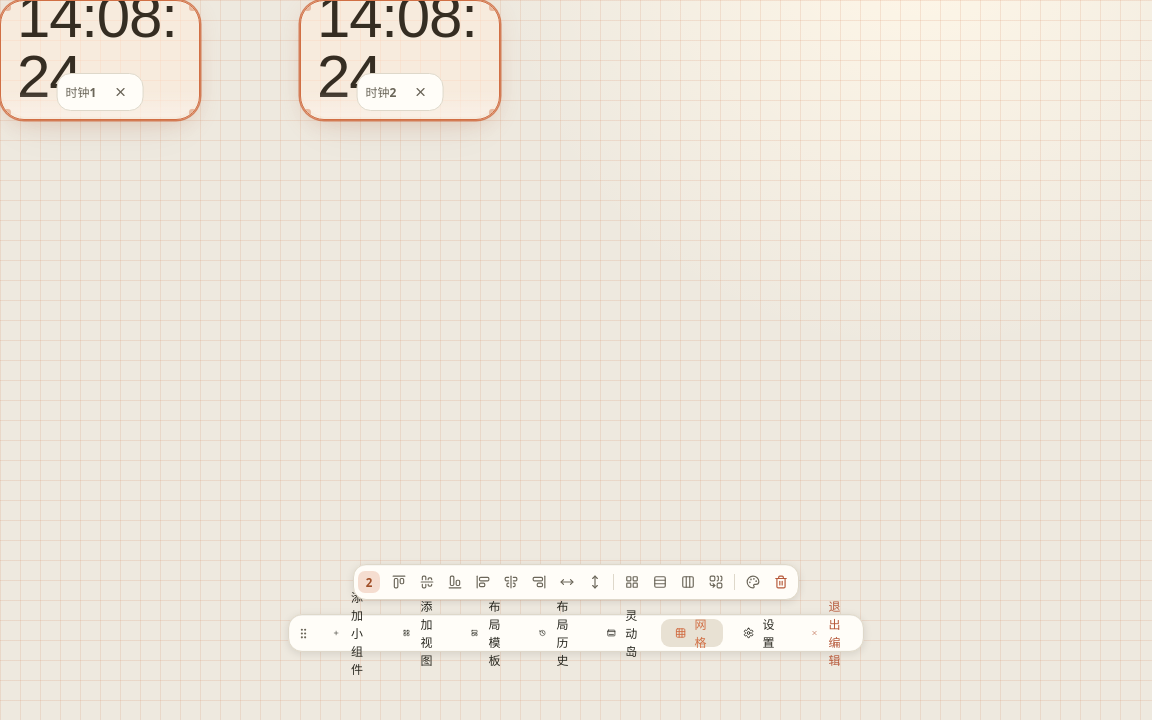
it: 编辑工具栏弹层治理 › 多选批量工具栏与弹层互斥让位：面板打开时隐藏，收起后选区保留工具栏回来
Expected: the element with class "widget-batch-toolbar" is shown, [353, 564, 799, 600]
Click the button "布局模板": coordinates (488, 633) [457, 619, 519, 647]
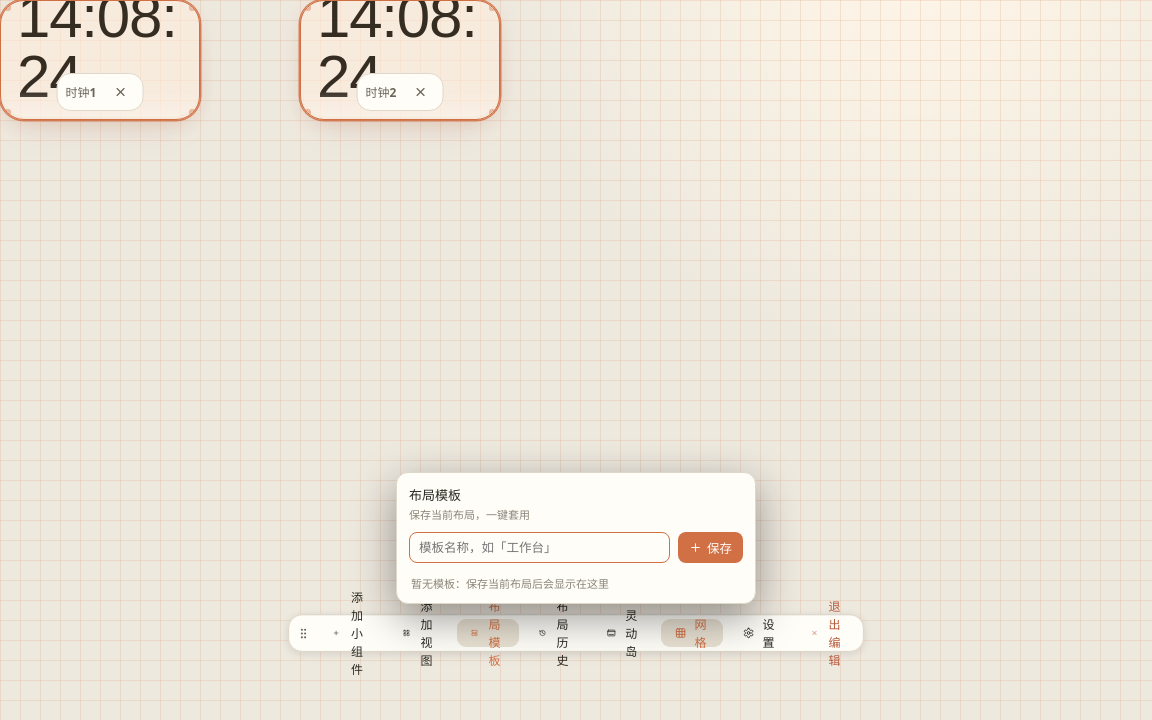
Expected: the dialog "布局模板" is shown, [396, 472, 756, 604]
Expected: the element with class "widget-batch-toolbar" is gone
Esc 收面板 → 选区未动，批量工具栏自动回来。
Press Escape
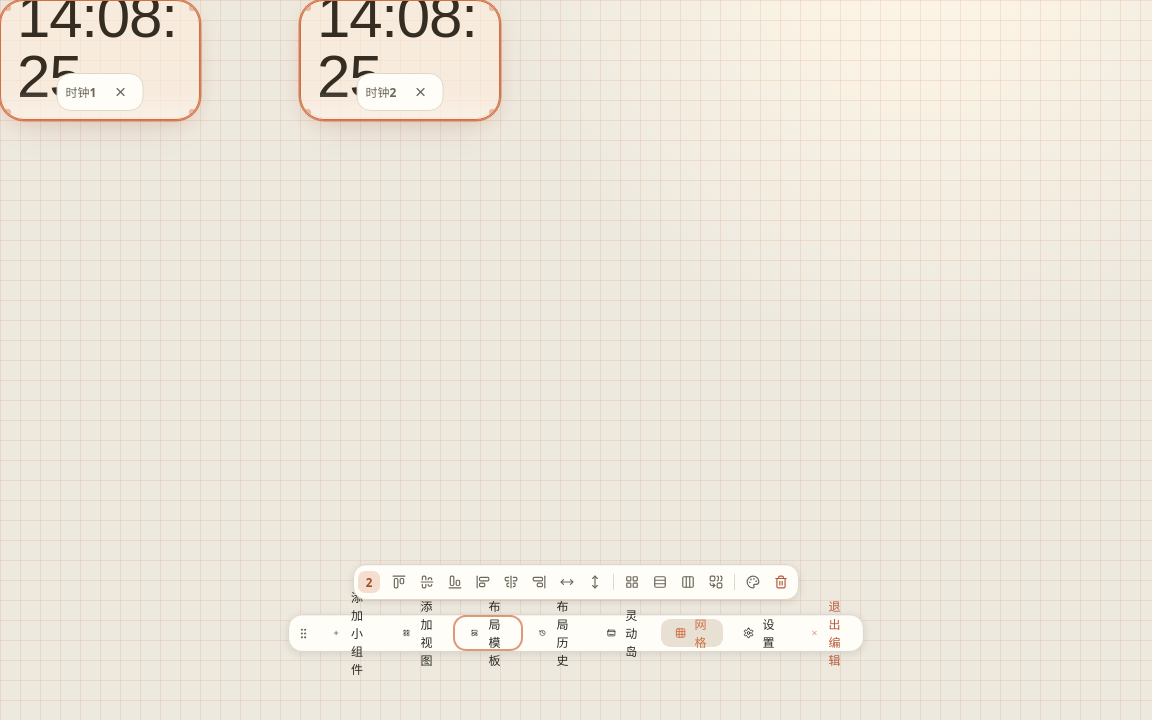
Expected: the dialog "布局模板 保存当前布局，一键套用 保存 暂无模板：保存当前布局后会显示在这里" is gone
Expected: the element with class "widget-batch-toolbar" is shown, [353, 564, 799, 600]
